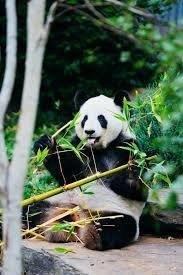bear: (23, 90, 149, 249)
